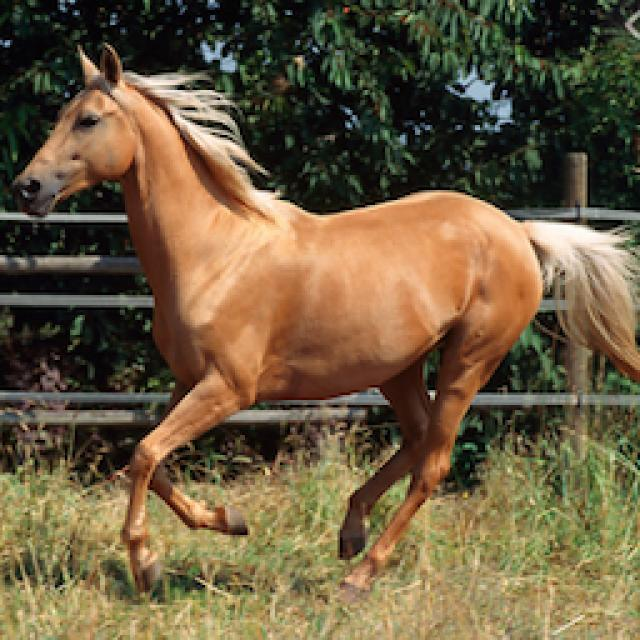Horse: (0, 35, 638, 608)
